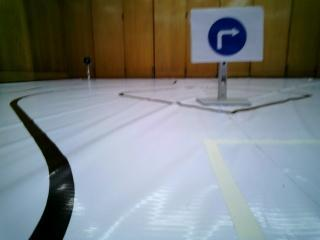right: (195, 9, 258, 59)
